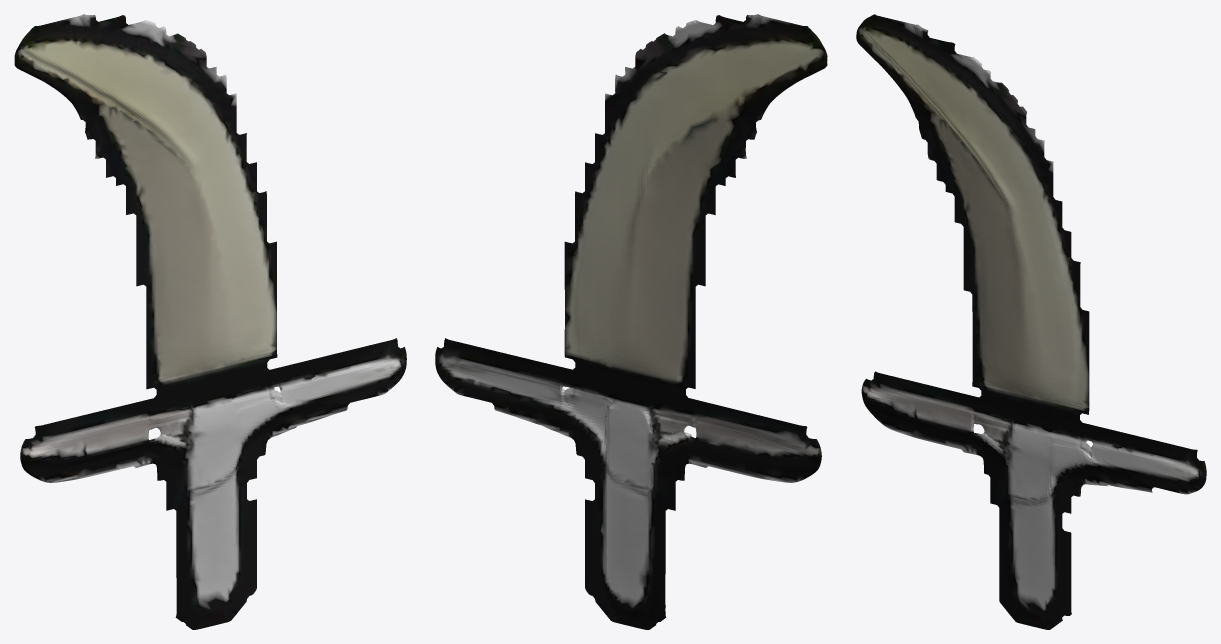
The model's file is dragonclaw_dagger.glb.
3 views of the same model, side by side, from view 1: azimuth 30°, elevation 25°; view 2: azimuth 150°, elevation 25°; view 3: azimuth 330°, elevation 25° (orthographic). The views are drawn at different scales.
Parts seen in each view (by area): view 1: geometry_0; view 2: geometry_0; view 3: geometry_0.
Part boxes in pixels (x1=…): geometry_0: x1=14, y1=14, x2=406, y2=629; geometry_0: x1=435, y1=14, x2=827, y2=629; geometry_0: x1=856, y1=14, x2=1206, y2=629.
Bounding box in the file's own units: 0.4375 × 0.6845 × 0.0159.
